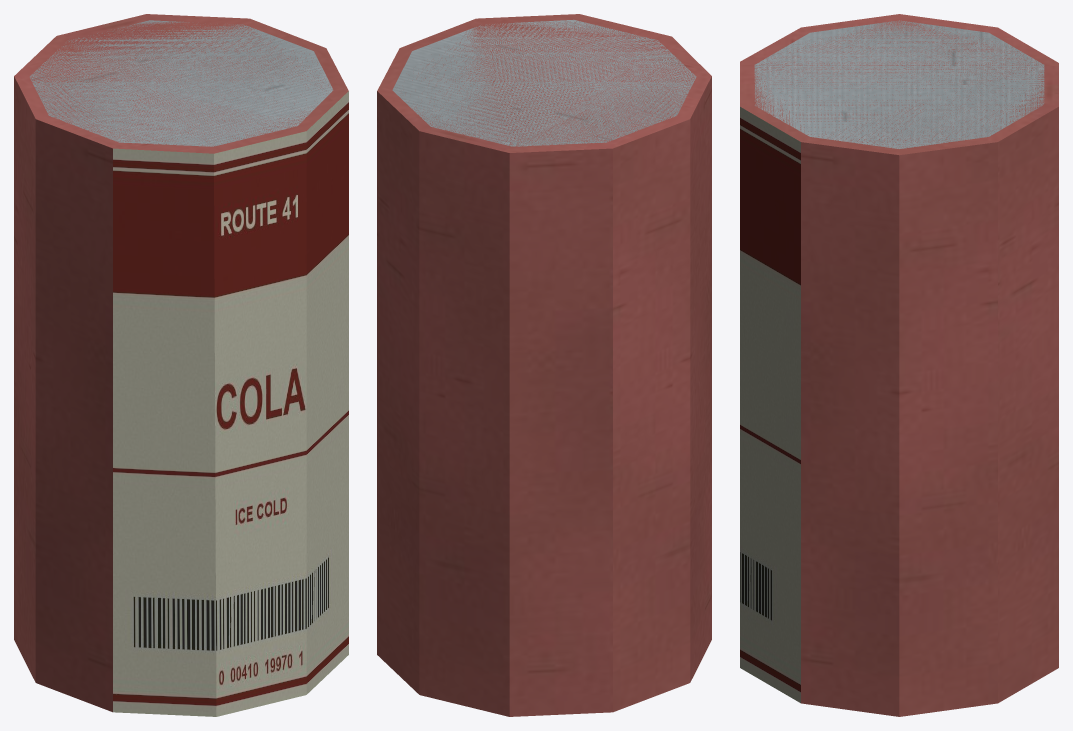
Rendered from sodacan_v4.glb.
The picture shows the model from 3 angles, left to right: view 1: azimuth 30°, elevation 25°; view 2: azimuth 150°, elevation 25°; view 3: azimuth 270°, elevation 25°; orthographic projection.
Parts seen in each view (by area): view 1: Variant_sodacan_4; view 2: Variant_sodacan_4; view 3: Variant_sodacan_4.
Part boxes in pixels (left/top/right/bottom): Variant_sodacan_4: left=14, top=14, right=348, bottom=716; Variant_sodacan_4: left=377, top=14, right=711, bottom=716; Variant_sodacan_4: left=740, top=14, right=1058, bottom=716.
Size of the model in its own units: 0.066 by 0.122 by 0.0628.
Materials: 3 (3 with a texture image).
